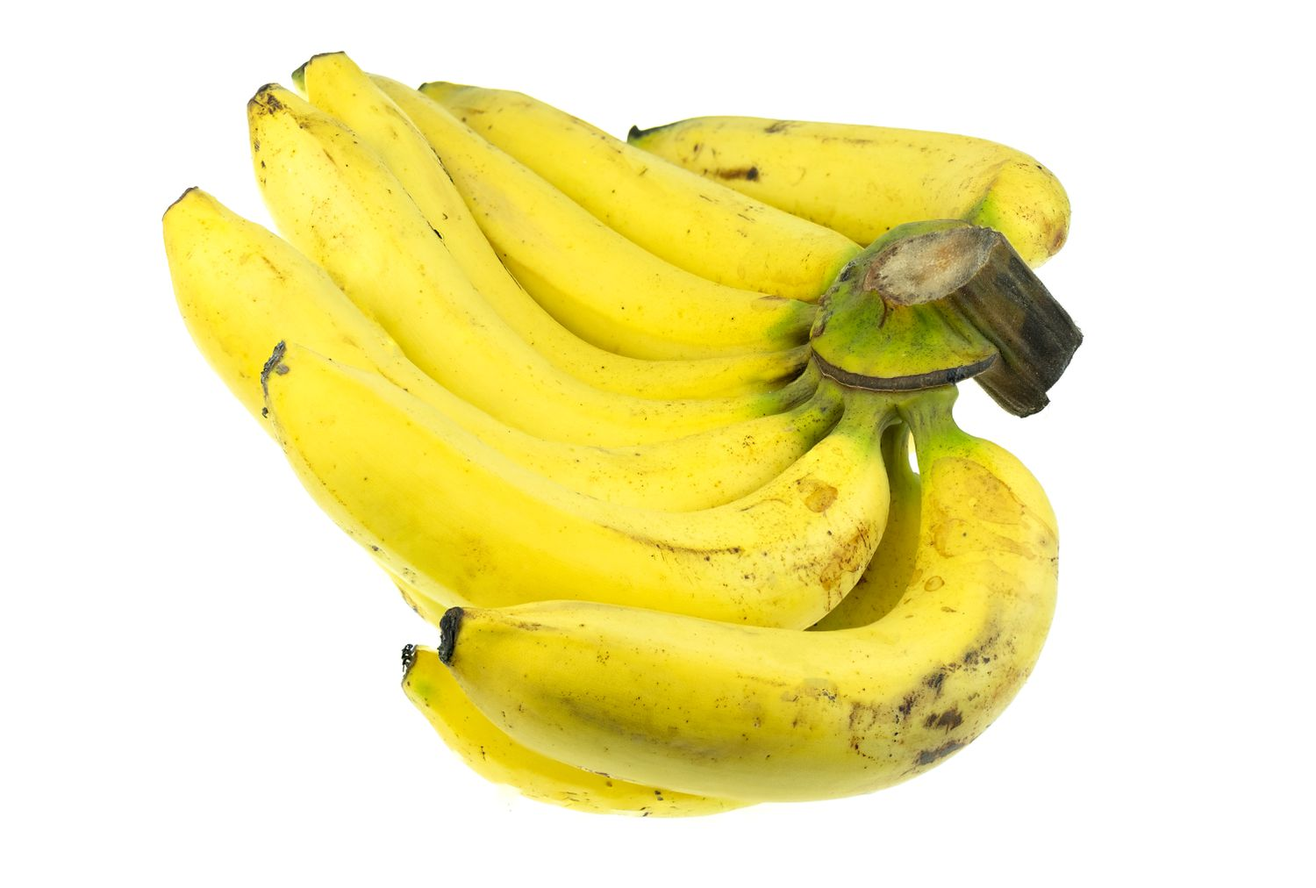banana: (158, 39, 1094, 819)
